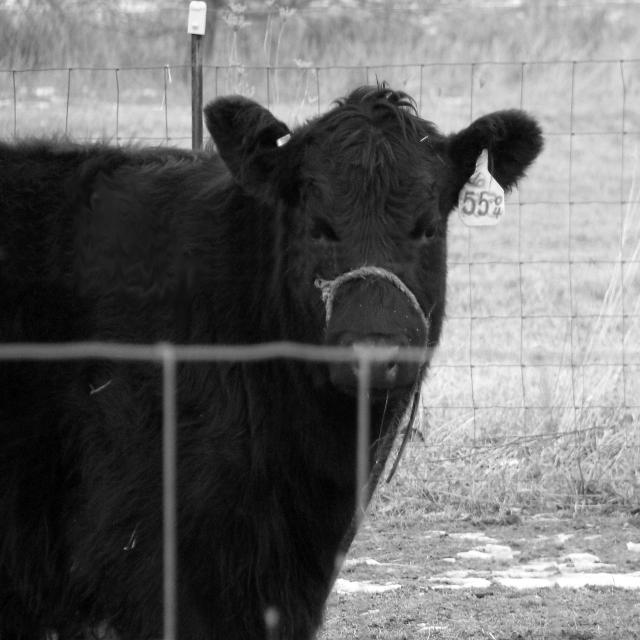cow: (0, 86, 542, 638)
